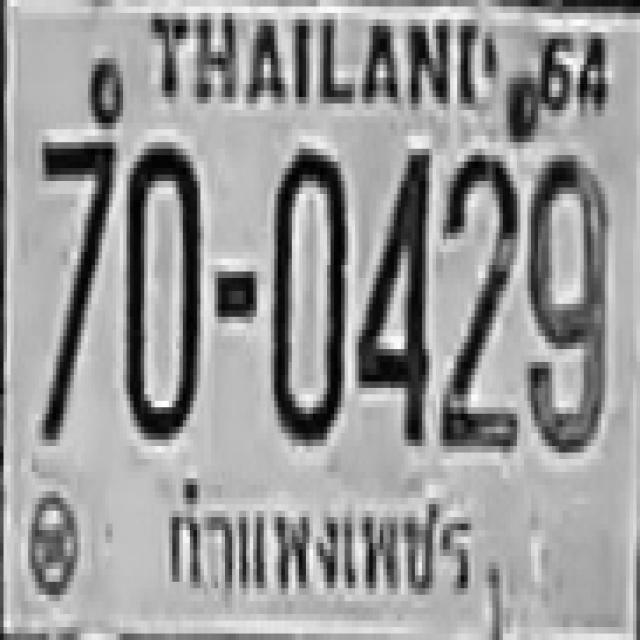0: (270, 142, 344, 440), (123, 136, 197, 433)
2: (439, 145, 514, 443)
4: (355, 142, 426, 440)
7: (37, 136, 114, 440)
9: (524, 149, 605, 446)
KamphaengPhet: (165, 473, 480, 611)
